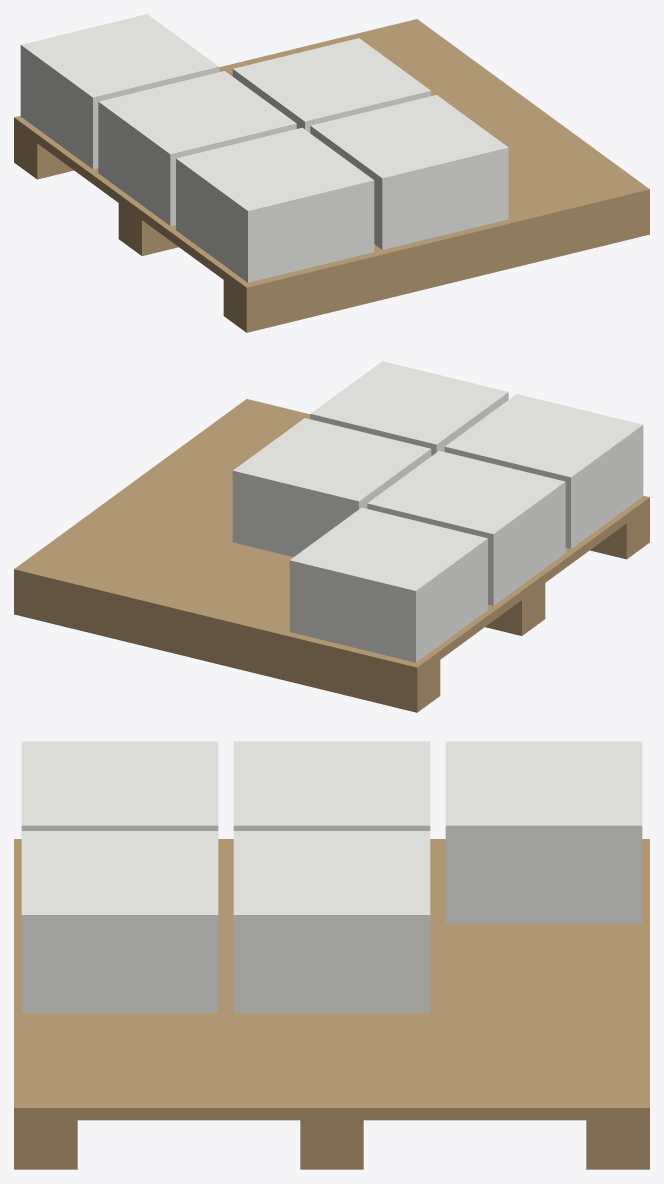
File: pallet_mp_05.glb
3 views of the same model, one above another, from view 1: azimuth 30°, elevation 25°; view 2: azimuth 150°, elevation 25°; view 3: azimuth 270°, elevation 25° (orthographic). The views are drawn at different scales.
Parts seen in each view (by area): view 1: PalletMP; view 2: PalletMP; view 3: PalletMP.
Boxes of the visible parts, bbox=[...] form: PalletMP: bbox=[14, 14, 649, 332]; PalletMP: bbox=[14, 361, 649, 712]; PalletMP: bbox=[14, 741, 649, 1169].
Size of the model in its own units: 1 by 0.2814 by 1.
